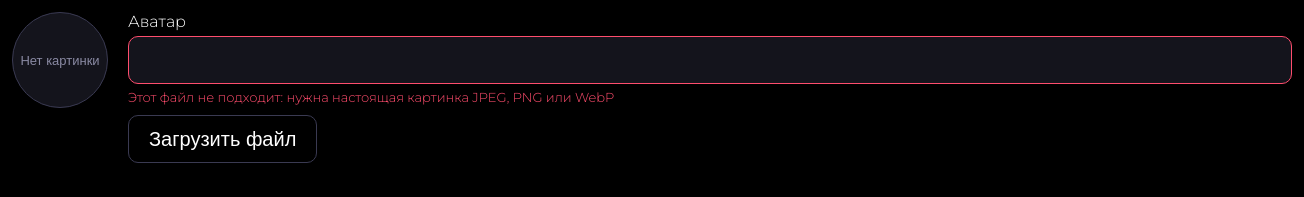
Scenario: ImageField › explains a file the server refused, and keeps the link input
Earlier steps of the test are not shown.
Expected: the text "Этот файл не подходит: нужна настоящая картинка JPEG, PNG или WebP" is shown, [128,89,614,105]
In the field labelled "Аватар": (710, 60) [128,36,1292,84], type "https://img.test/a.png"
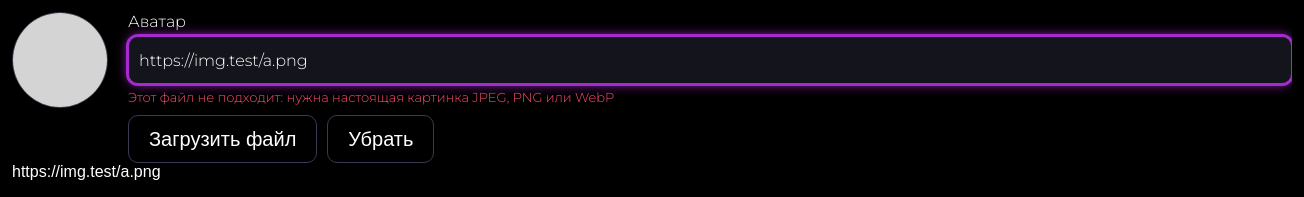
Now the text with test id "value" reads "https://img.test/a.png", box [12,163,160,180]
